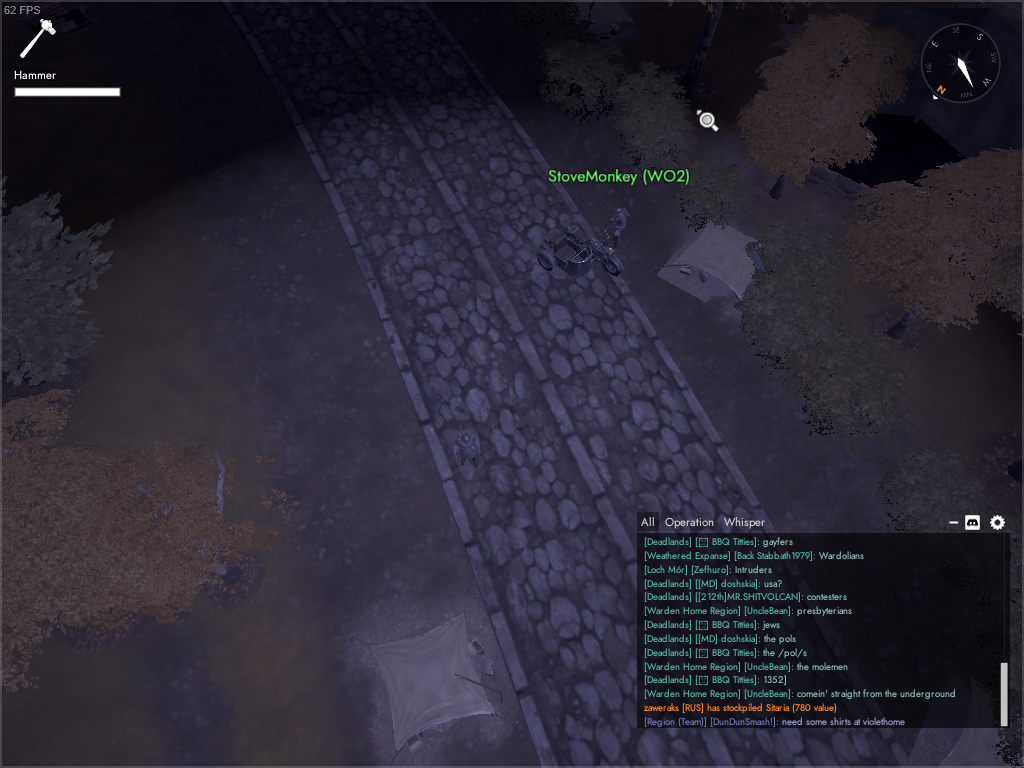foxhole: (343, 600, 536, 768), (651, 203, 794, 316)
motorcycle: (536, 224, 628, 287)
player: (596, 201, 634, 250), (450, 423, 485, 470)
